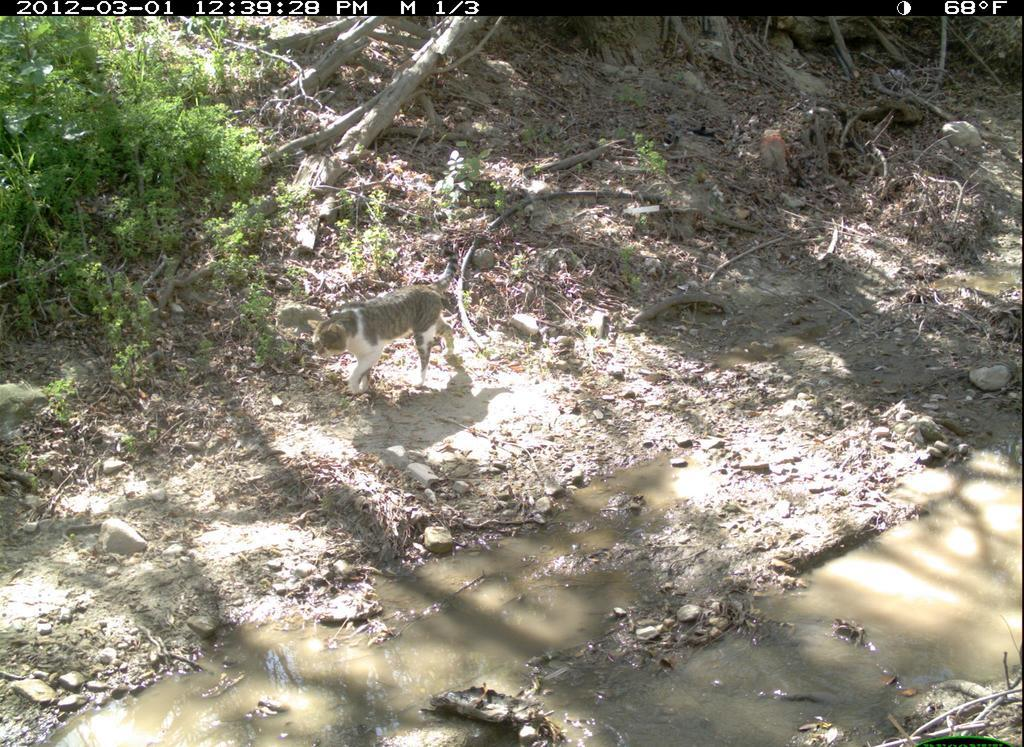cat: (294, 263, 481, 402)
